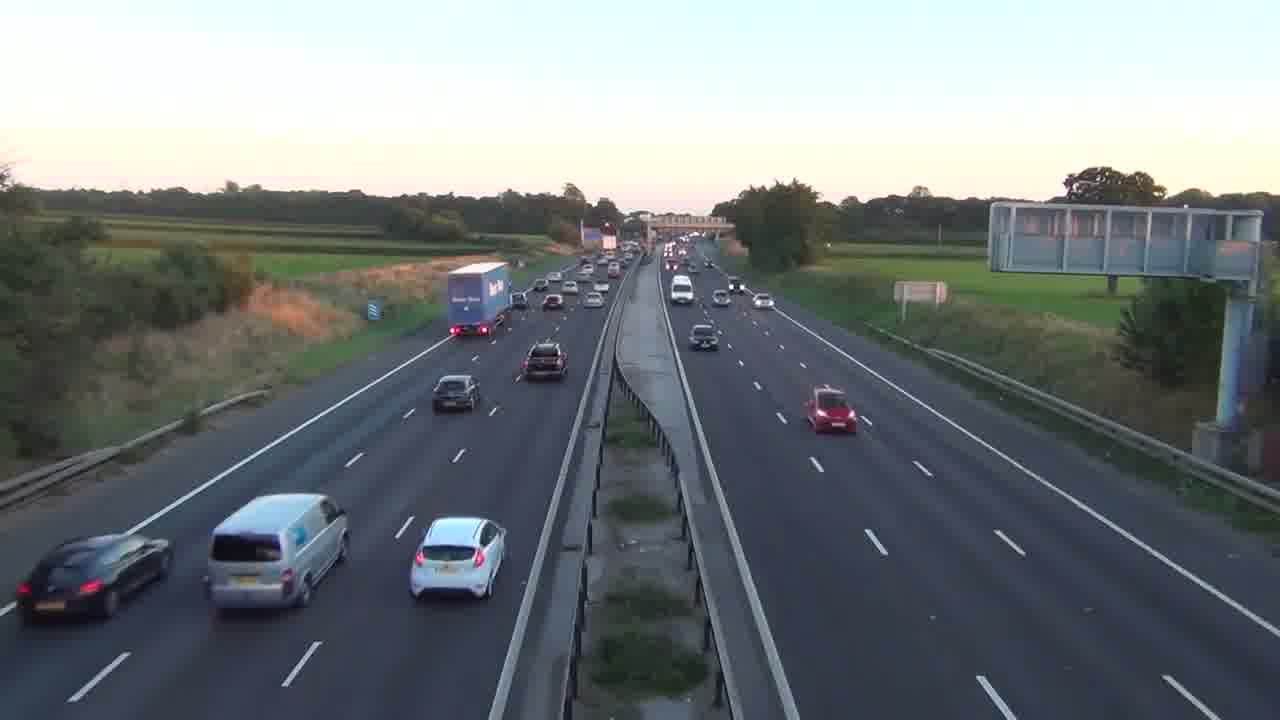bus: (447, 260, 513, 336)
car: (201, 491, 351, 612), (14, 531, 174, 623), (408, 515, 509, 600), (807, 384, 860, 436), (432, 373, 481, 413), (522, 340, 568, 381), (687, 322, 721, 351), (752, 291, 774, 309), (712, 288, 733, 306), (542, 293, 563, 310)
